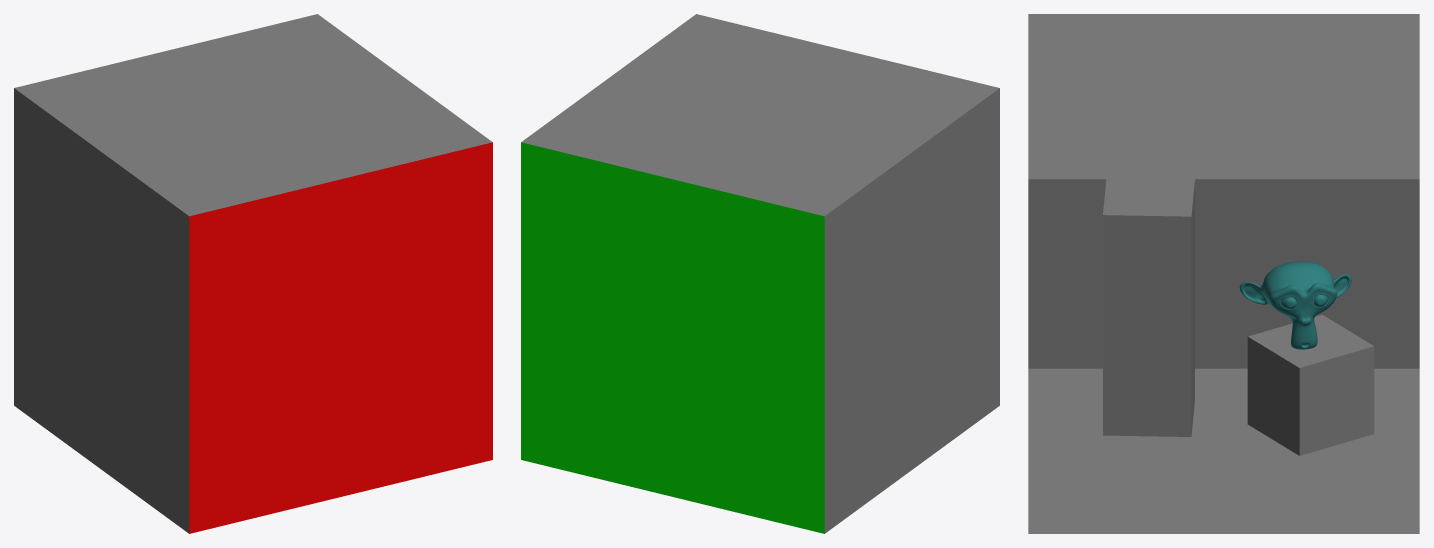
Rendered from monkeyBox.obj.
3 renders of one model, left to right at view 1: azimuth 30°, elevation 25°; view 2: azimuth 150°, elevation 25°; view 3: azimuth 270°, elevation 25°, orthographic. The views are drawn at different scales.
Visible parts, largest first — view 1: pCube1 polySurface1 polySurface4, pCube1 polySurface3 polySurface1; view 2: pCube1 polySurface1 polySurface4, polySurface2 pCube1; view 3: pCube1 polySurface1 polySurface4, pCube2, pCube3, suzanne:Mesh.
Part boxes in pixels (x1=…): pCube1 polySurface1 polySurface4: x1=14, y1=14, x2=492, y2=533; pCube1 polySurface3 polySurface1: x1=189, y1=142, x2=492, y2=533; pCube1 polySurface1 polySurface4: x1=521, y1=14, x2=999, y2=533; polySurface2 pCube1: x1=521, y1=142, x2=824, y2=533; pCube1 polySurface1 polySurface4: x1=1028, y1=14, x2=1419, y2=533; pCube2: x1=1103, y1=179, x2=1194, y2=436; pCube3: x1=1247, y1=314, x2=1374, y2=455; suzanne:Mesh: x1=1239, y1=261, x2=1351, y2=349.
Size of the model in its own units: 10.67 by 10.67 by 10.67.
